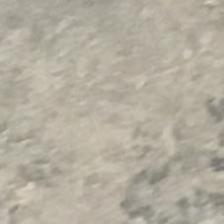Non_Crack: (14, 0, 220, 214)
